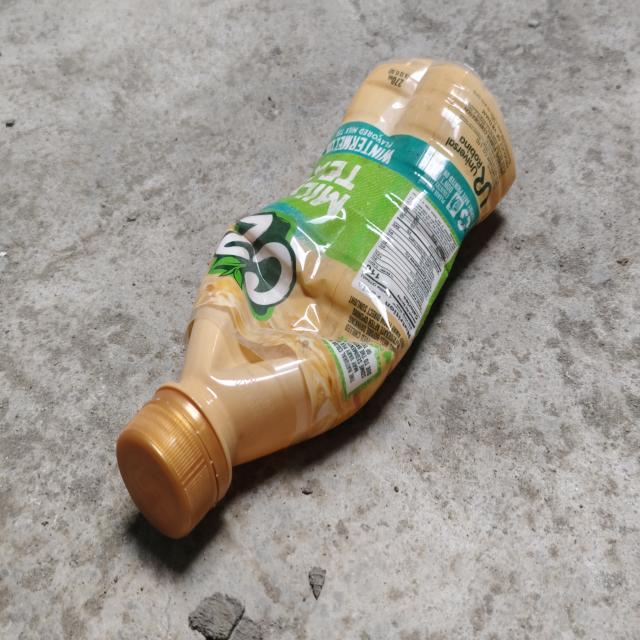Bottle: (117, 59, 515, 538)
